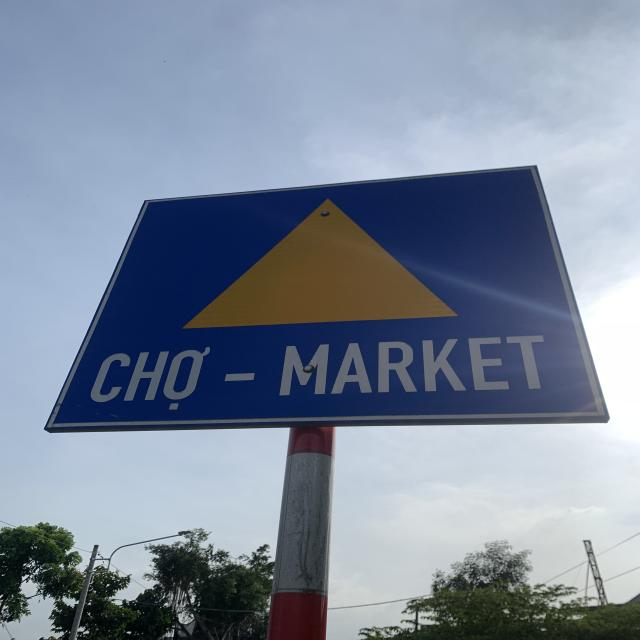Cho_Quay_Xe: (48, 165, 608, 425)
